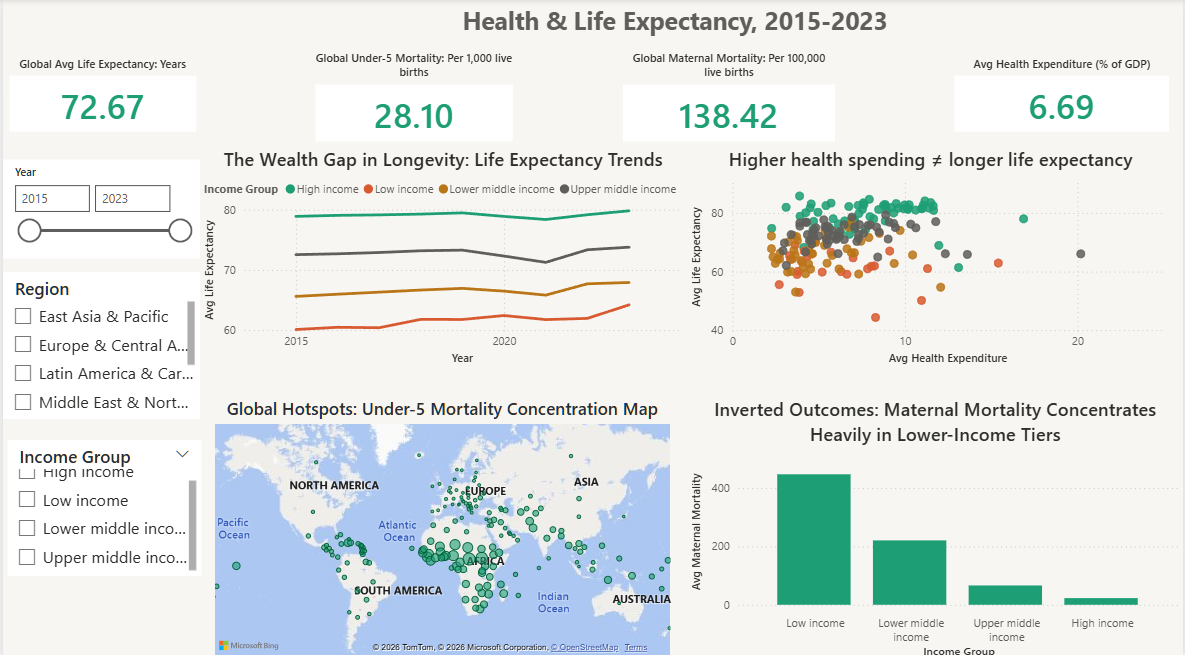

This screenshot's page, from the dashboard's own definition file:
{"tool":"powerbi","page":{"name":"Page 1","canvas":[1280,720],"ordinal":0},"visuals":[{"type":"cardVisual","title":"Avg Health Expenditure (% of GDP)","fields":{"Data":["health_indicators_clean_long.Avg Health Expenditure"]},"box":[1026.3,55.3,244,87.8],"z":0},{"type":"cardVisual","title":"Global Under-5 Mortality: Per 1,000 live births","fields":{"Data":["health_indicators_clean_long.Avg Under5 Mortality"]},"box":[333.4,55.3,224.5,104.1],"z":1000},{"type":"cardVisual","title":"Global Avg Life Expectancy: Years","fields":{"Data":["health_indicators_clean_long.Avg Life Expectancy"]},"box":[0,55.3,213.1,87.8],"z":2000},{"type":"cardVisual","title":"Global Maternal Mortality: Per 100,000 live births","fields":{"Data":["health_indicators_clean_long.Avg Maternal Mortality"]},"box":[662,55.3,240.7,104.1],"z":3000},{"type":"lineChart","title":"The Wealth Gap in Longevity: Life Expectancy Trends","fields":{"Category":["health_indicators_clean_long.Year"],"Y":["health_indicators_clean_long.Avg Life Expectancy"],"Series":["health_indicators_clean_long.Income Group"]},"box":[213.1,159.4,528.6,242.4],"z":4000},{"type":"scatterChart","title":"Higher health spending ≠ longer life expectancy","fields":{"X":["health_indicators_clean_long.Avg Health Expenditure"],"Y":["health_indicators_clean_long.Avg Life Expectancy"],"Series":["health_indicators_clean_long.Income Group"],"Category":["health_indicators_clean_long.Country Name"]},"box":[741.7,159.4,528.6,242.4],"z":5000},{"type":"clusteredColumnChart","title":"Inverted Outcomes: Maternal Mortality Concentrates Heavily in Lower-Income Tiers","fields":{"Category":["health_indicators_clean_long.Income Group"],"Y":["health_indicators_clean_long.Avg Maternal Mortality"]},"box":[741.7,431,538.4,289.5],"z":6000},{"type":"map","title":"Global Hotspots: Under-5 Mortality Concentration Map","fields":{"Category":["health_indicators_clean_long.Country Name"],"Size":["health_indicators_clean_long.Avg Under5 Mortality"]},"box":[224.5,431,504.2,289.5],"z":7000},{"type":"textbox","box":[177.3,0,1102.8,55.3],"z":8000},{"type":"slicer","fields":{"Values":["health_indicators_clean_long.Year"]},"box":[0,174,213.1,107.4],"z":8001},{"type":"slicer","fields":{"Values":["health_indicators_clean_long.Region"]},"box":[0,296,213.1,159.4],"z":8002},{"type":"slicer","fields":{"Values":["health_indicators_clean_long.Income Group"]},"box":[4.9,478.2,209.8,146.4],"z":8003}]}

Visuals, with their boxes in screenshot pixels (x1, y1, x2, y2), scaled from the page's 1280x720 canvas onto the 1185x655 screenshot:
"Avg Health Expenditure (% of GDP)" cardVisual: detection(950, 50, 1176, 130)
"Global Under-5 Mortality: Per 1,000 live births" cardVisual: detection(309, 50, 516, 145)
"Global Avg Life Expectancy: Years" cardVisual: detection(0, 50, 197, 130)
"Global Maternal Mortality: Per 100,000 live births" cardVisual: detection(613, 50, 836, 145)
"The Wealth Gap in Longevity: Life Expectancy Trends" lineChart: detection(197, 145, 687, 366)
"Higher health spending ≠ longer life expectancy" scatterChart: detection(687, 145, 1176, 366)
"Inverted Outcomes: Maternal Mortality Concentrates Heavily in Lower-Income Tiers" clusteredColumnChart: detection(687, 392, 1184, 654)
"Global Hotspots: Under-5 Mortality Concentration Map" map: detection(208, 392, 675, 654)
textbox: detection(164, 0, 1184, 50)
slicer - health_indicators_clean_long.Year: detection(0, 158, 197, 256)
slicer - health_indicators_clean_long.Region: detection(0, 269, 197, 414)
slicer - health_indicators_clean_long.Income Group: detection(5, 435, 199, 568)
